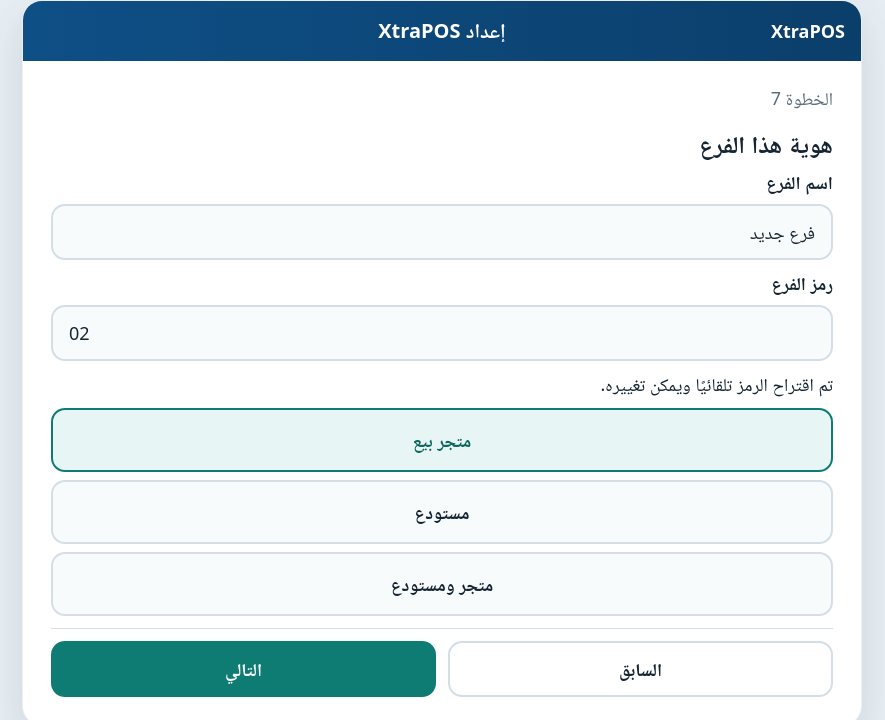
Test case: setup wizard QA blockers › drops a branch-code error when leaving the identity step
Click the button "التالي".
click(244, 669)  # box [51,641,436,697]
(page scrolled)
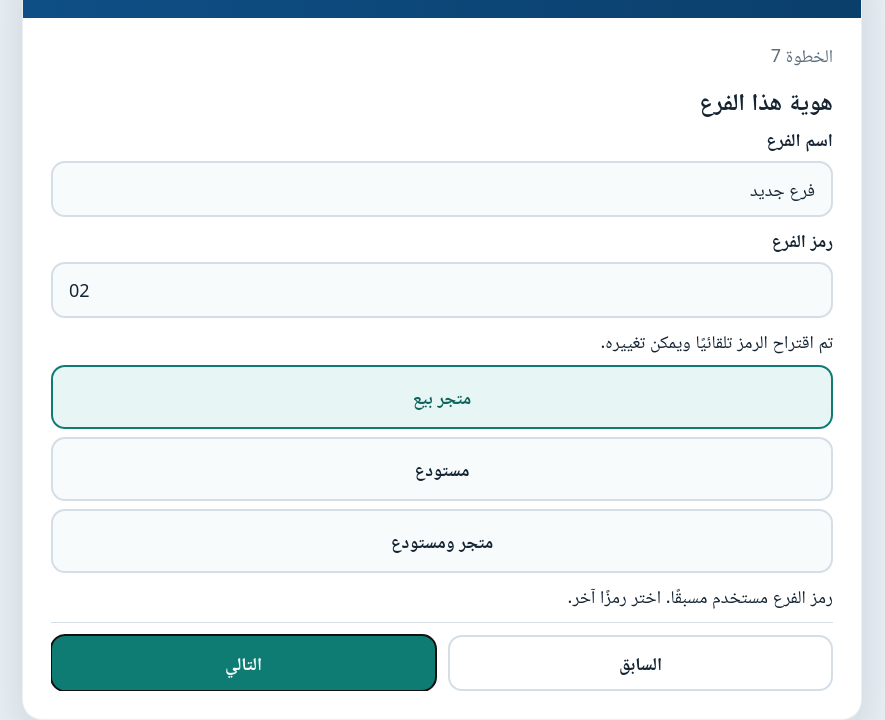
Expected: the text "رمز الفرع مستخدم مسبقًا. اختر رمزًا آخر." is shown, [568,584,833,608]
Click the button "السابق".
click(640, 663)  # box [448,635,833,691]
(page scrolled)
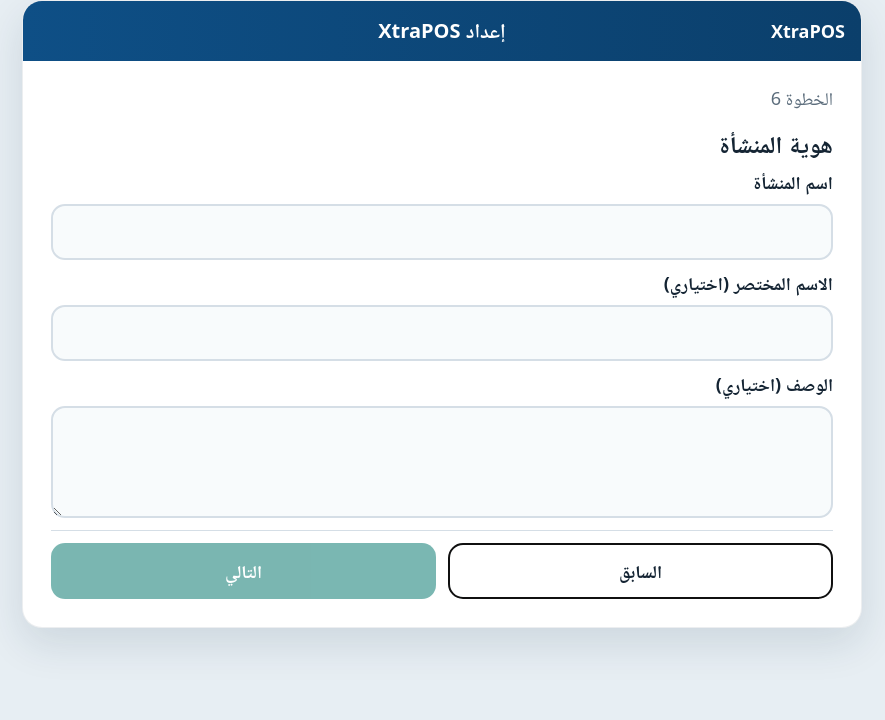
Expected: the text "رمز الفرع مستخدم مسبقًا. اختر رمزًا آخر." is gone
